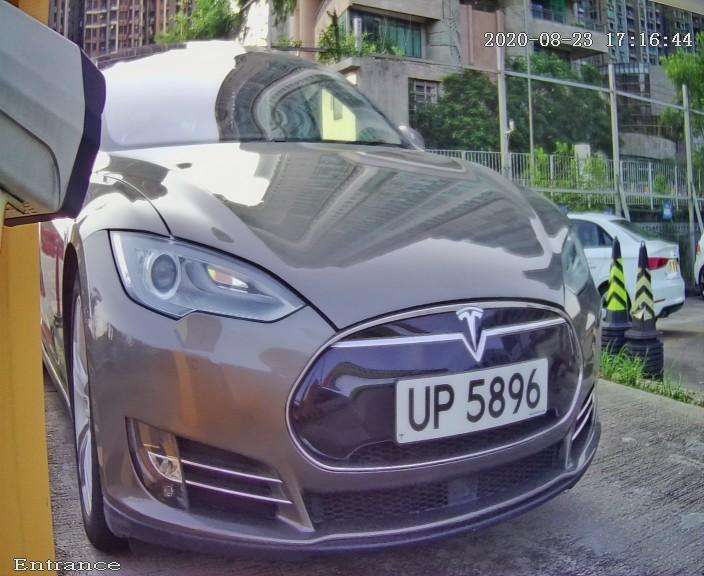License Plate: (357, 330, 567, 476)
